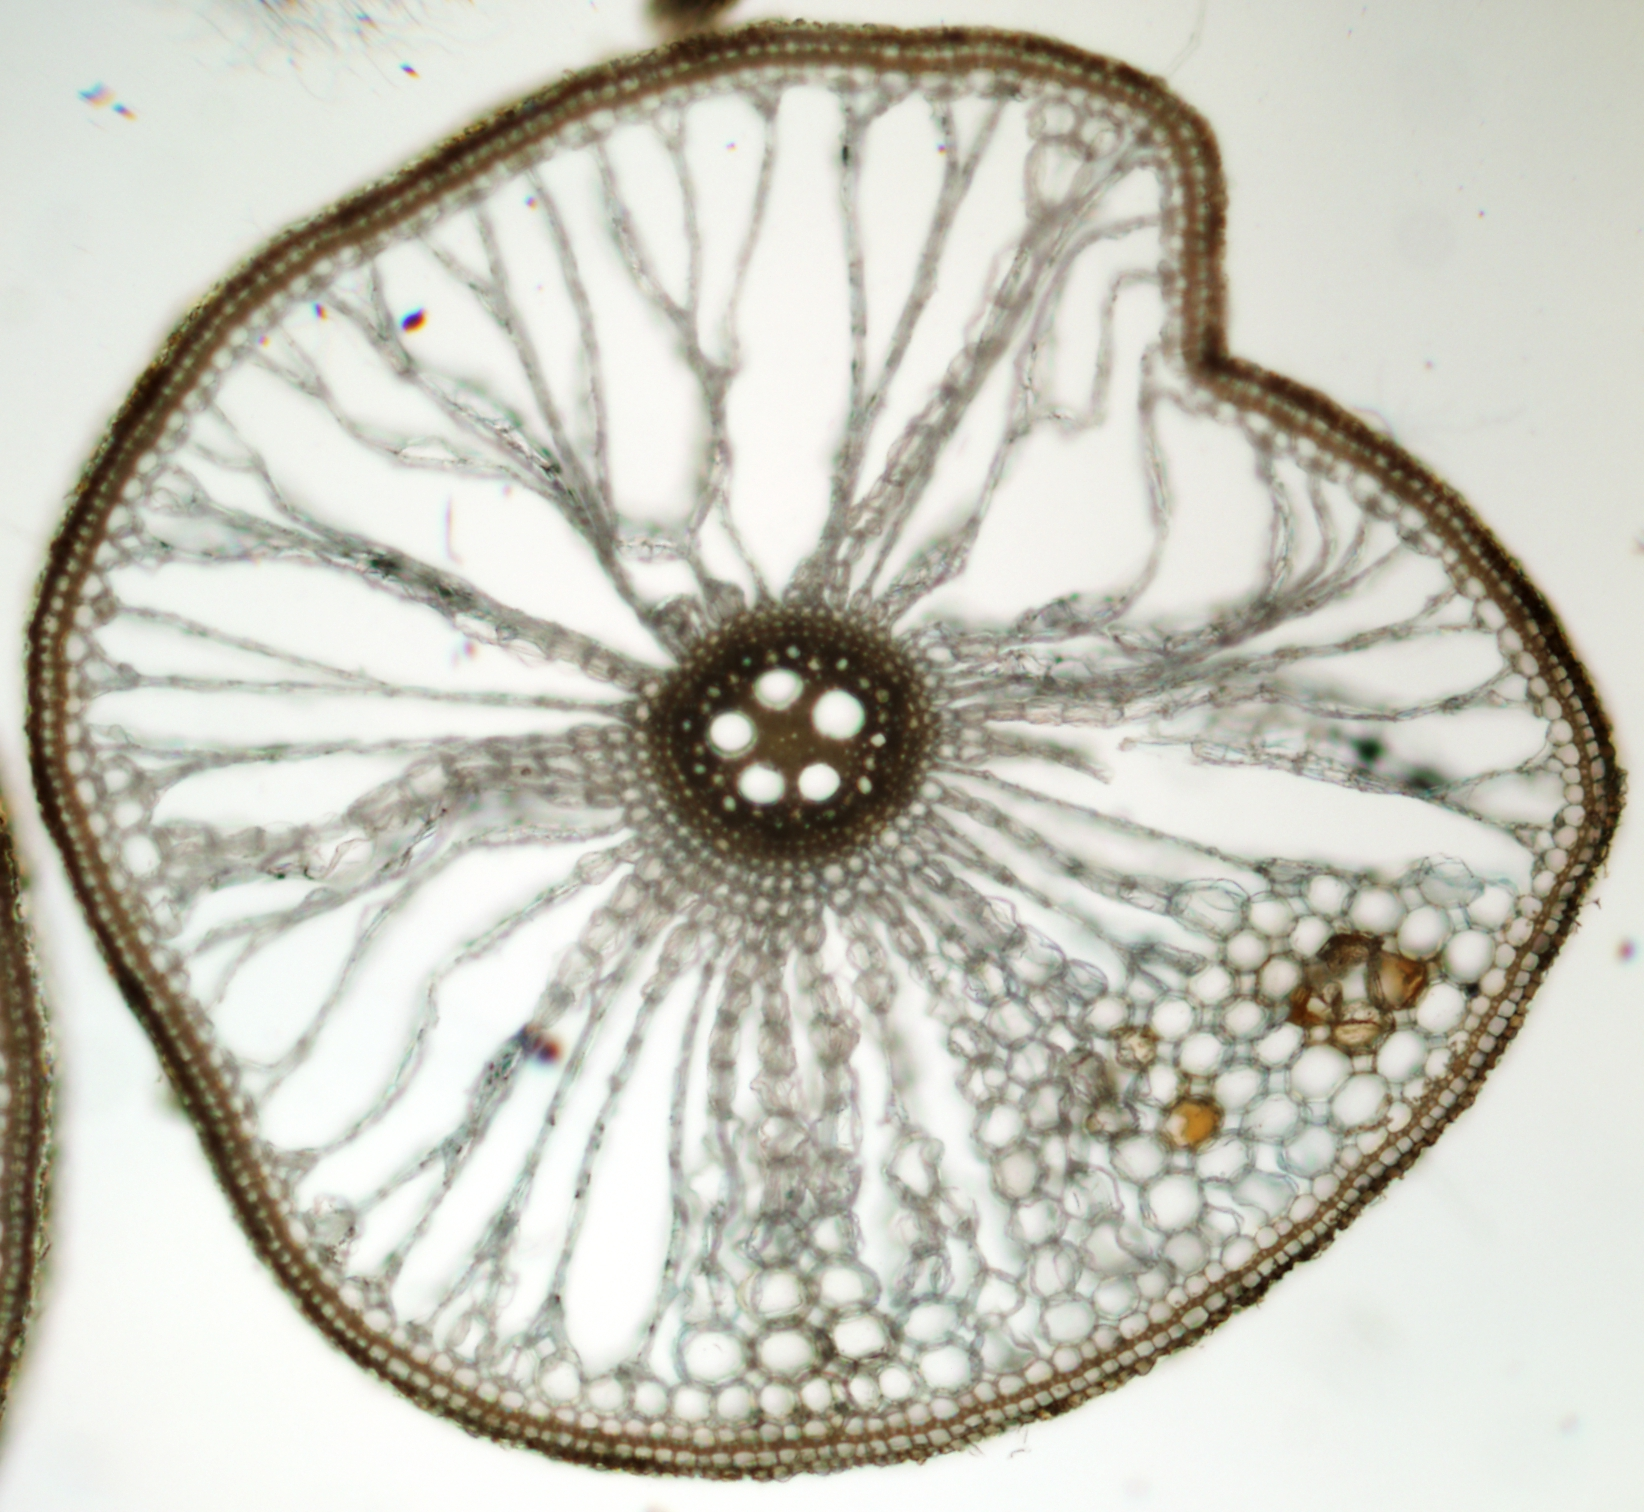lm: (811, 689, 864, 740), (706, 709, 756, 757), (753, 667, 803, 712), (736, 760, 785, 805), (798, 762, 839, 800)
